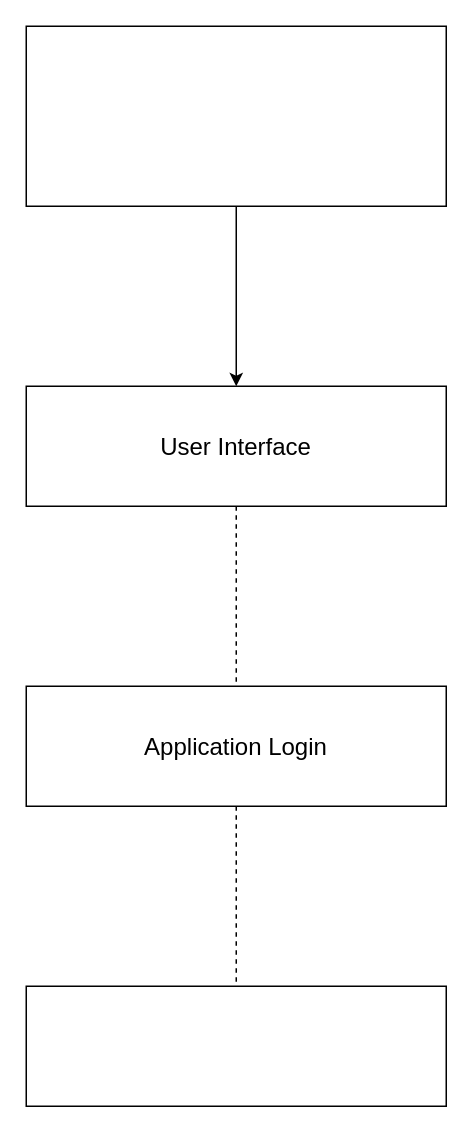
The diagram is 473 pixels wide and 1133 high, and some of its shapes have lost their labels. Here are the shapes that lost their labels. From the top down, the centre of each, then its label:
At point (235, 115): "e-Consult Mobile APP".
At point (235, 1045): "Database / Data Store".
